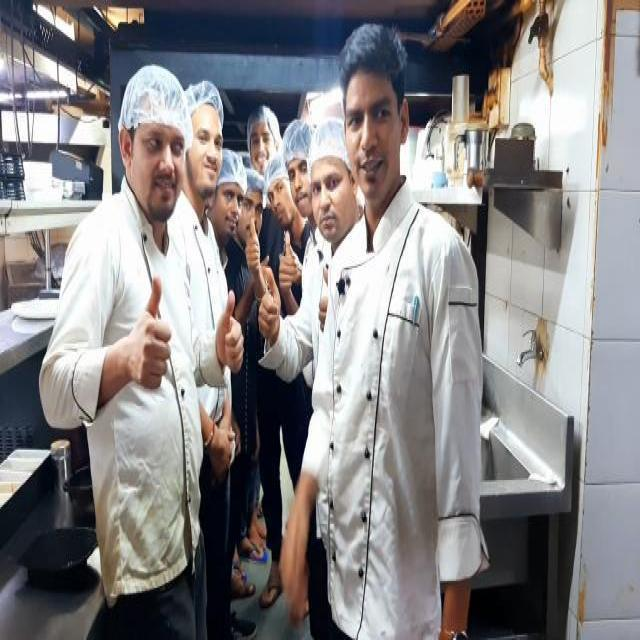bare_hand: (259, 504, 324, 620), (118, 290, 176, 394), (205, 298, 249, 376), (203, 411, 248, 478), (269, 232, 305, 298), (251, 286, 291, 344), (242, 211, 271, 281)
